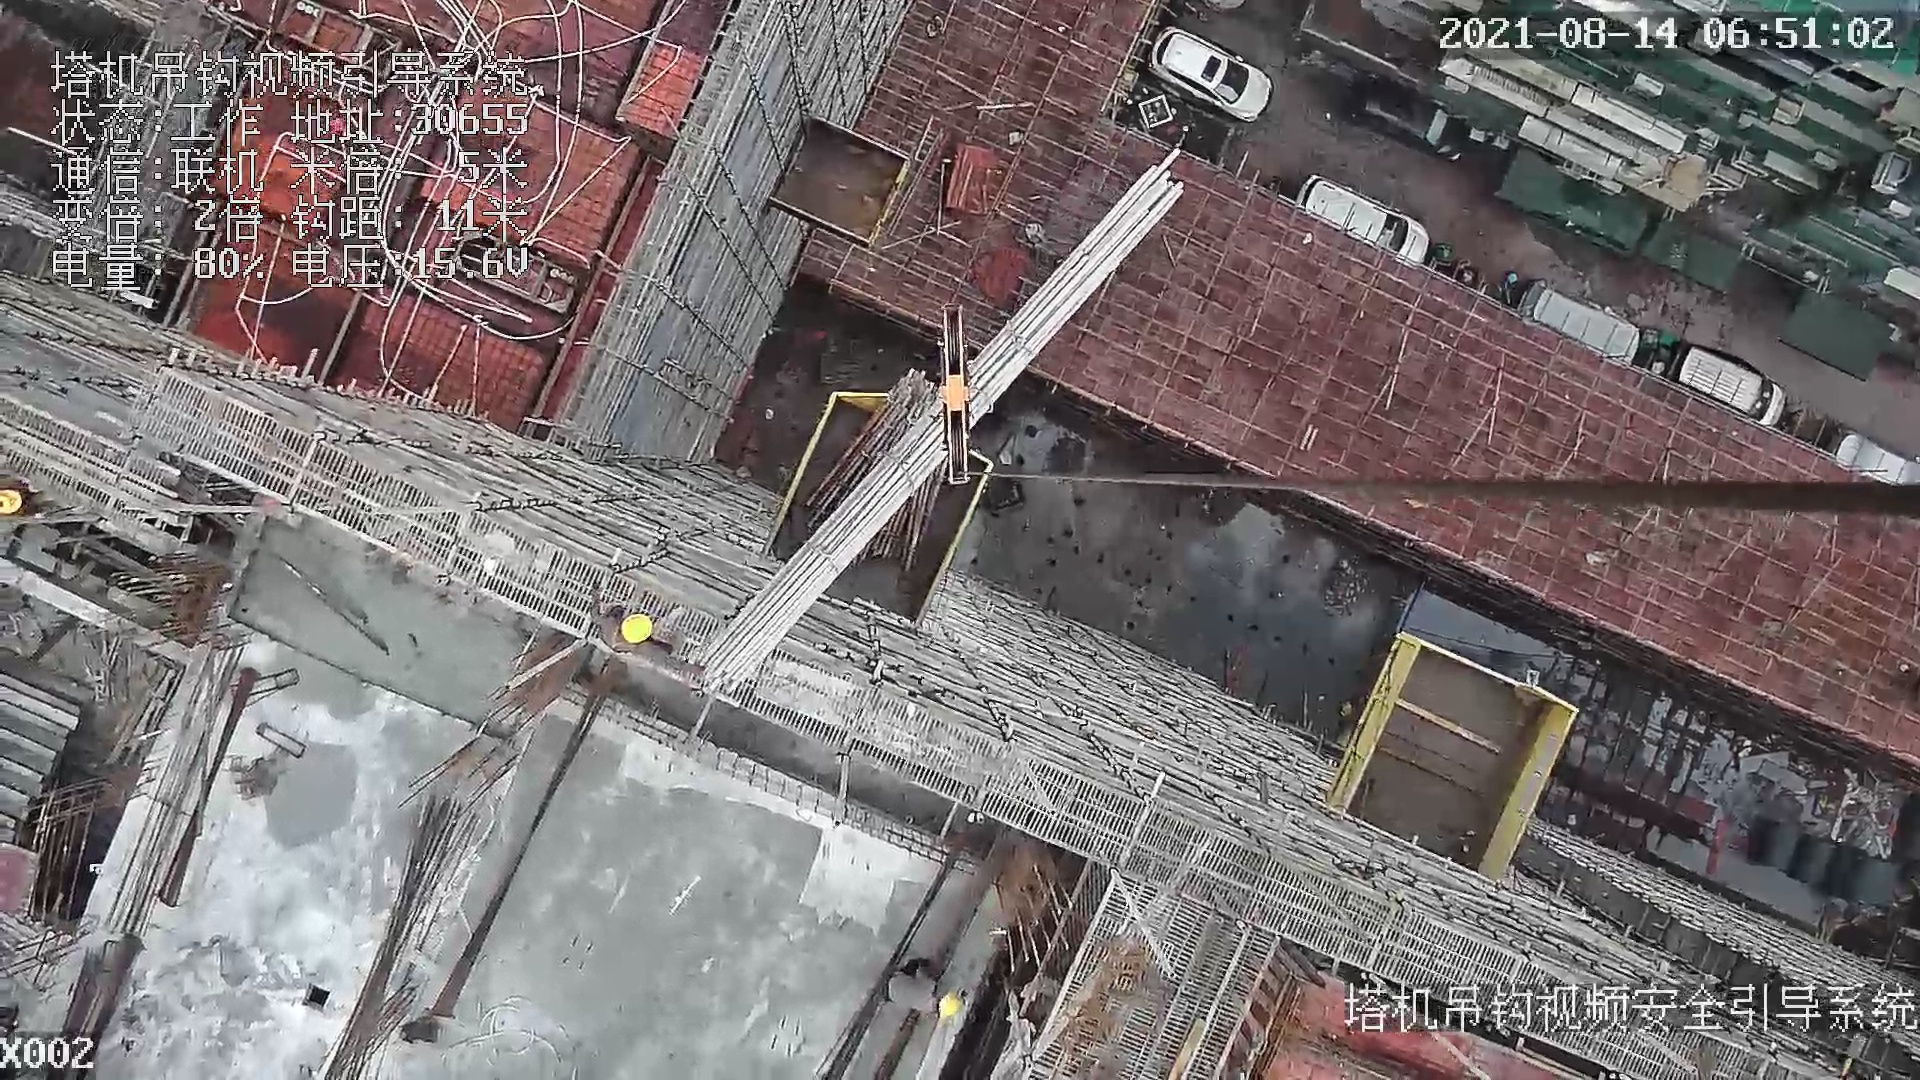helmet: (606, 613, 669, 655), (932, 997, 972, 1027), (1, 489, 24, 517)
hook: (927, 301, 982, 486)
person: (583, 587, 683, 663), (881, 950, 963, 1021), (1, 478, 44, 533)
